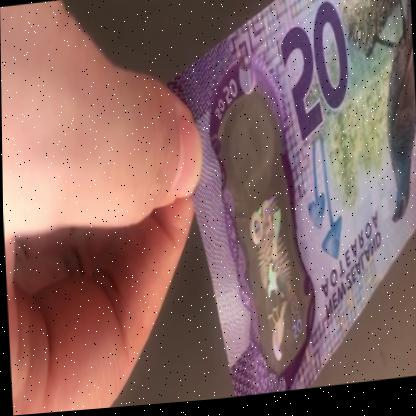50B: (230, 98, 304, 374)
